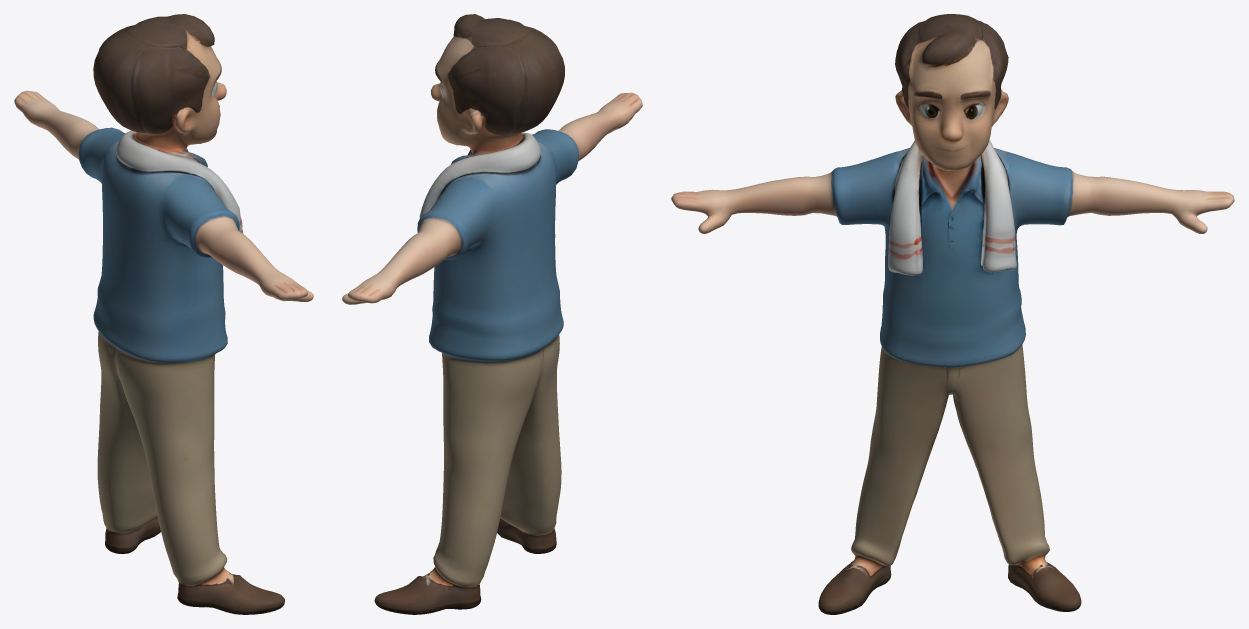
Rendered from tripo_convert_e48f0342-e467-4779-9a0b-ab02cf78068d.fbx.
3 views of the same model, side by side, from view 1: azimuth 30°, elevation 25°; view 2: azimuth 150°, elevation 25°; view 3: azimuth 270°, elevation 25° (orthographic).
Parts seen in each view (by area): view 1: tripo_node_e48f0342; view 2: tripo_node_e48f0342; view 3: tripo_node_e48f0342.
Boxes of the visible parts, box(x1,y1,x2,y2) form: tripo_node_e48f0342: box(14, 14, 313, 614); tripo_node_e48f0342: box(342, 14, 642, 614); tripo_node_e48f0342: box(671, 14, 1234, 614).
Size of the model in its own units: 0.2221 by 0.9485 by 0.8563.
Materials: 1 (1 with a texture image).
